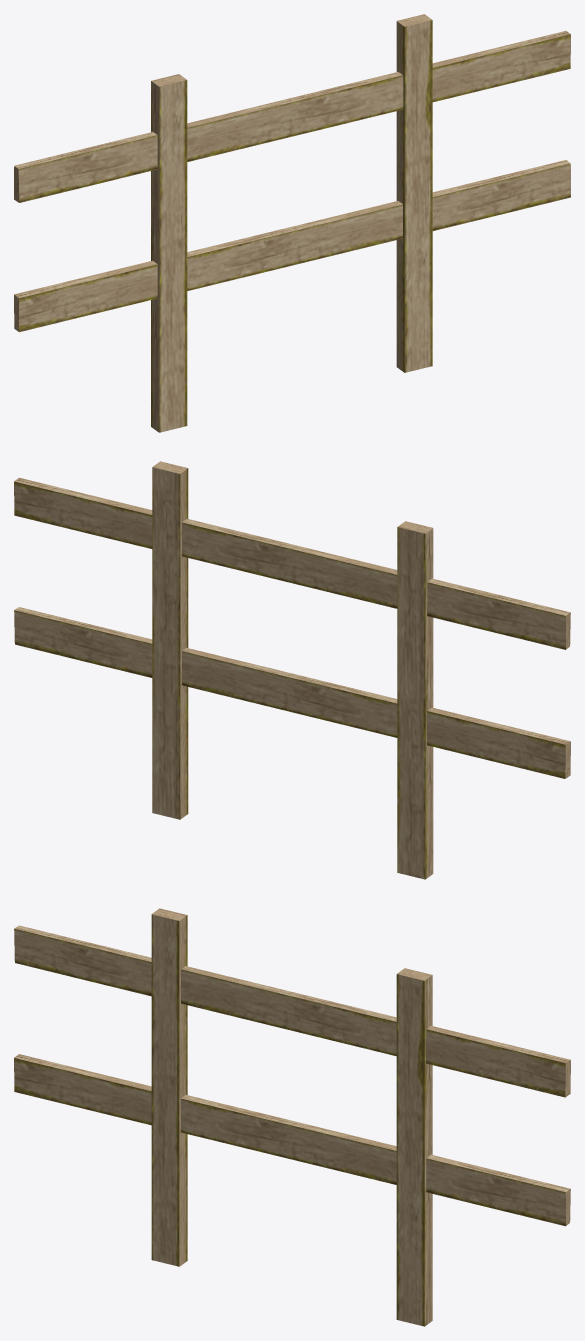
Rendered from fence.fbx.
3 renders of one model, top to bottom at view 1: azimuth 30°, elevation 25°; view 2: azimuth 150°, elevation 25°; view 3: azimuth 330°, elevation 25°, orthographic.
Parts seen in each view (by area): view 1: fence; view 2: fence; view 3: fence.
Part boxes in pixels (left/top/right/bottom): fence: left=14, top=14, right=570, bottom=432; fence: left=14, top=461, right=570, bottom=879; fence: left=14, top=908, right=570, bottom=1326.
Size of the model in its own units: 193 by 116 by 4.9.
